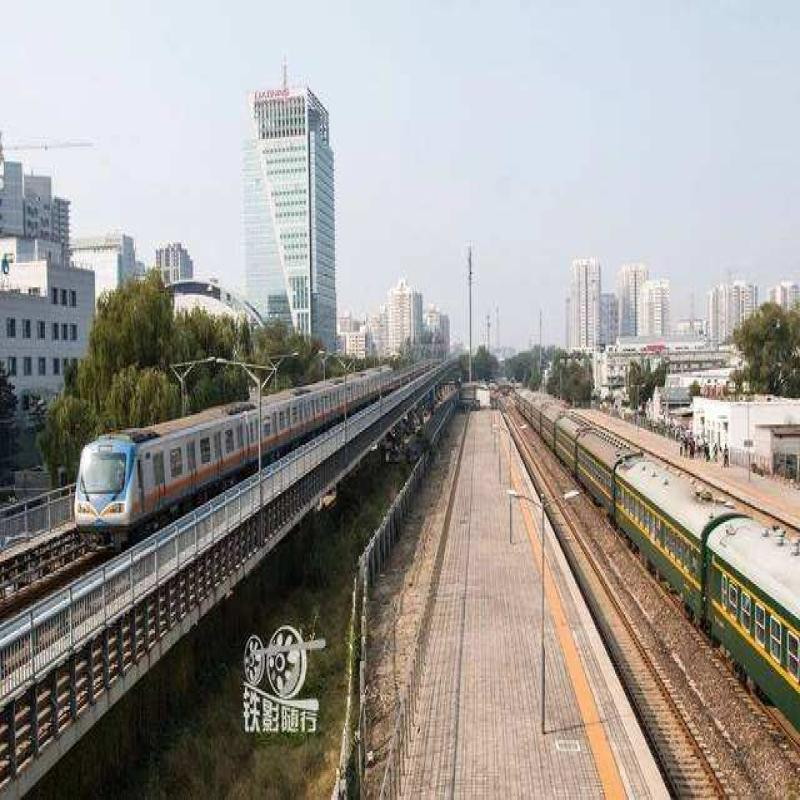train: (514, 377, 794, 687), (55, 410, 404, 499)
